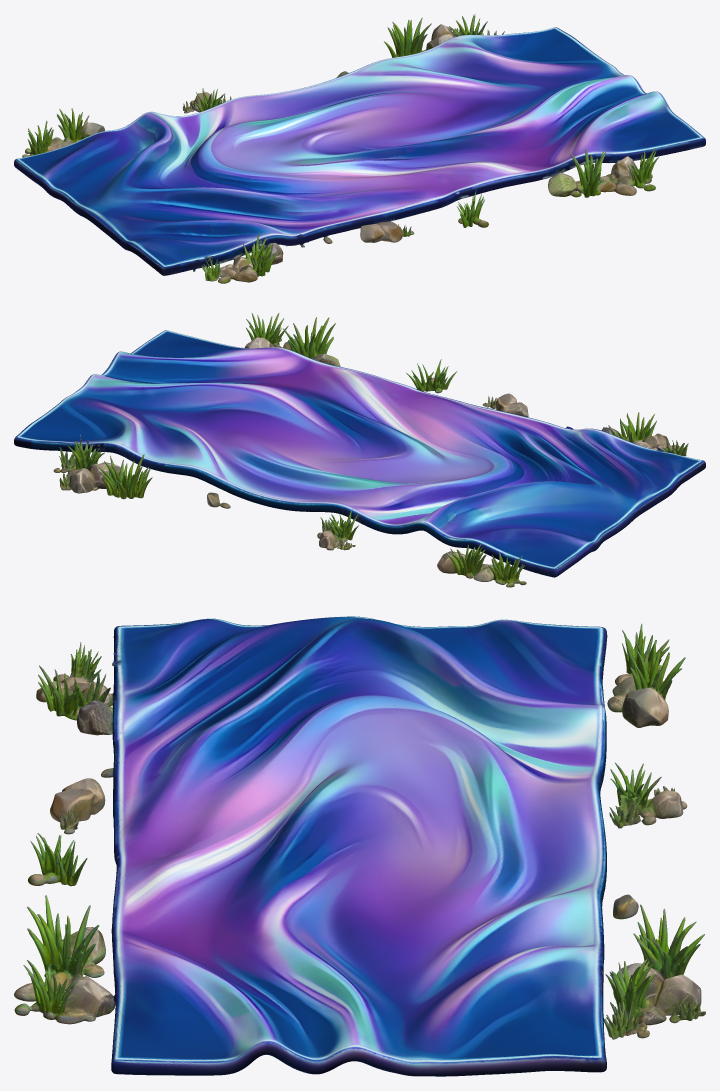
Rendered from Meshy_AI_model.fbx.
3 renders of one model, top to bottom at view 1: azimuth 30°, elevation 25°; view 2: azimuth 150°, elevation 25°; view 3: azimuth 270°, elevation 25°, orthographic. The views are drawn at different scales.
Parts seen in each view (by area): view 1: mesh_node; view 2: mesh_node; view 3: mesh_node.
Boxes of the visible parts, x1,y1,x2,y2 form: mesh_node: (14,14,705,283); mesh_node: (14,313,705,587); mesh_node: (14,616,705,1076).
Bounding box in the file's own units: 190 × 14.1 × 126.
1 material, 1 textured.
